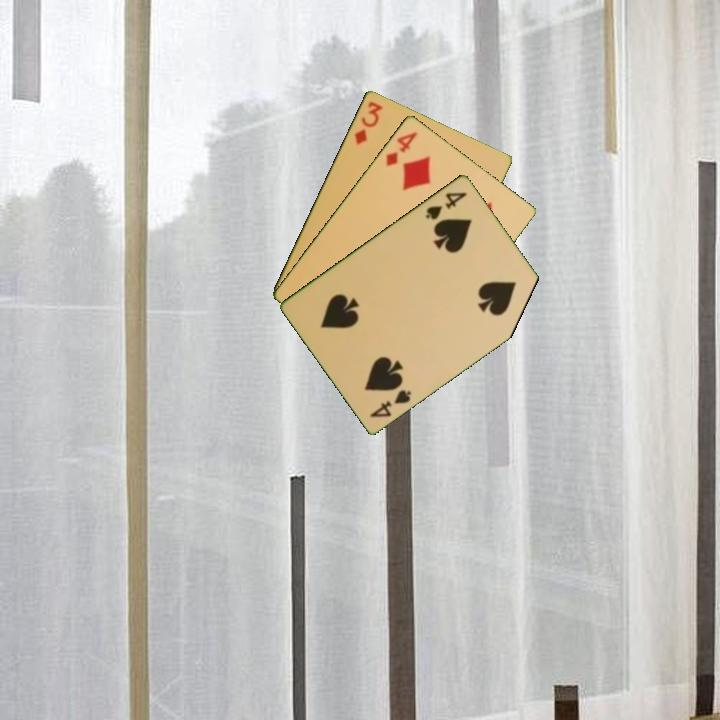3d: (351, 97, 385, 148)
4d: (382, 128, 420, 169)
4s: (366, 385, 414, 420), (422, 188, 470, 222)
